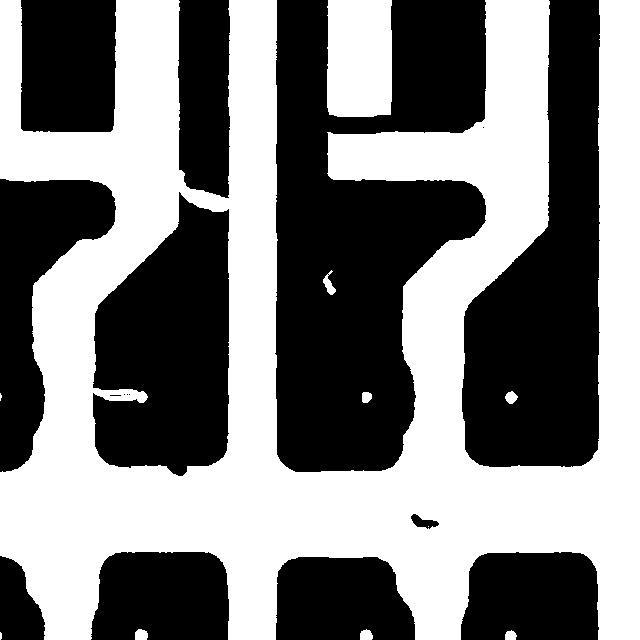copper: (401, 504, 448, 538)
mousebite: (453, 109, 497, 143)
open: (165, 160, 242, 221), (80, 377, 151, 410)
pin-hole: (313, 260, 345, 304)
short: (306, 105, 410, 143)
spur: (157, 449, 196, 485)
